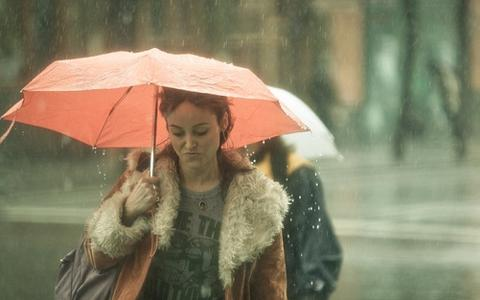person: (83, 88, 289, 300)
